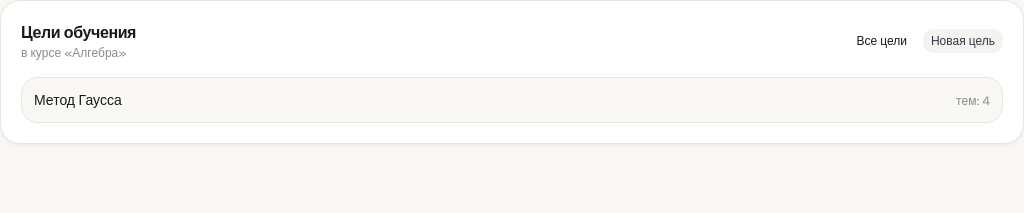
Test: CourseGoalsPanel entry to the goal list › keeps creating a goal in the course
expect the text "Метод Гаусса" is shown: met, box [34, 90, 122, 110]
Click the button "Новая цель": (963, 41) [923, 29, 1003, 53]
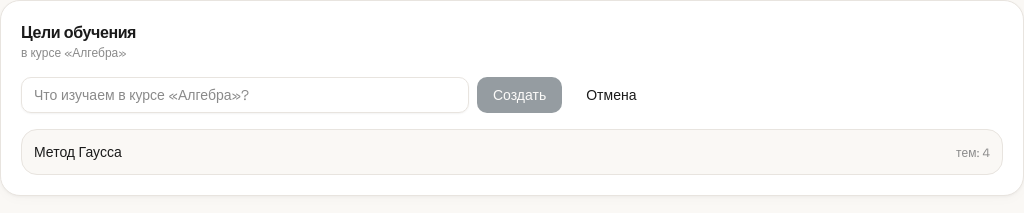
expect the field named "Тема новой цели" is shown: met, box [21, 77, 469, 113]
